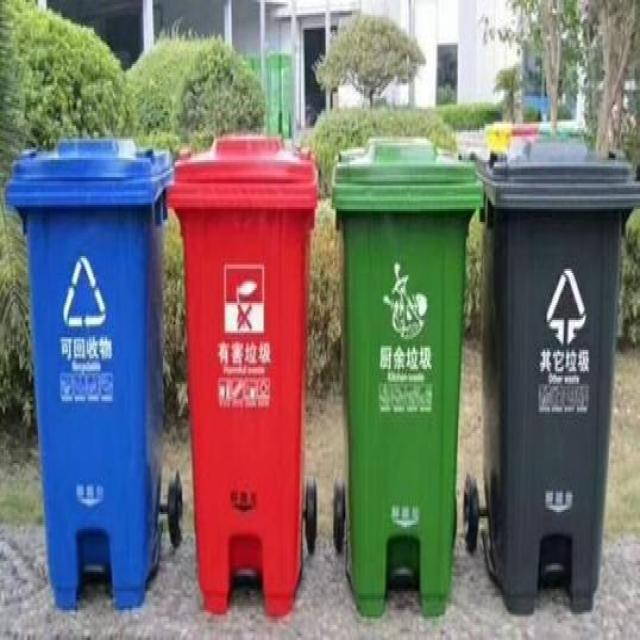garbage_bin: (470, 135, 639, 614), (4, 135, 171, 610), (166, 134, 316, 619), (330, 132, 480, 617)
